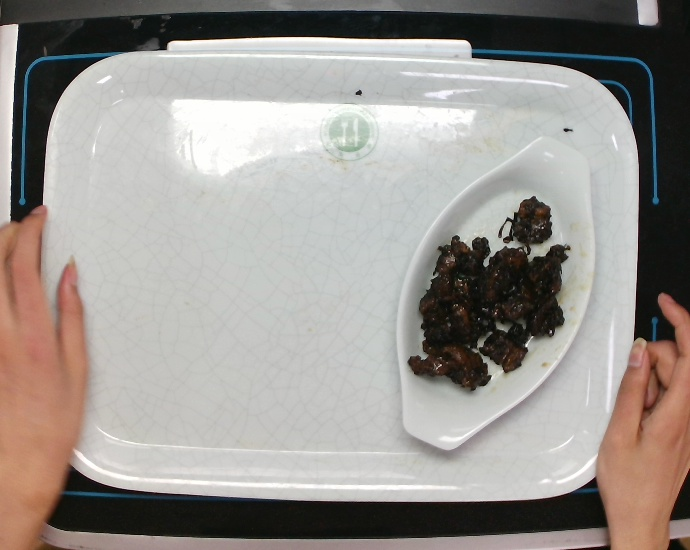JYsf-Yu_Pan: (386, 127, 607, 459)
